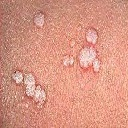Wart: (63, 30, 101, 72), (11, 70, 48, 106), (31, 11, 46, 27)
